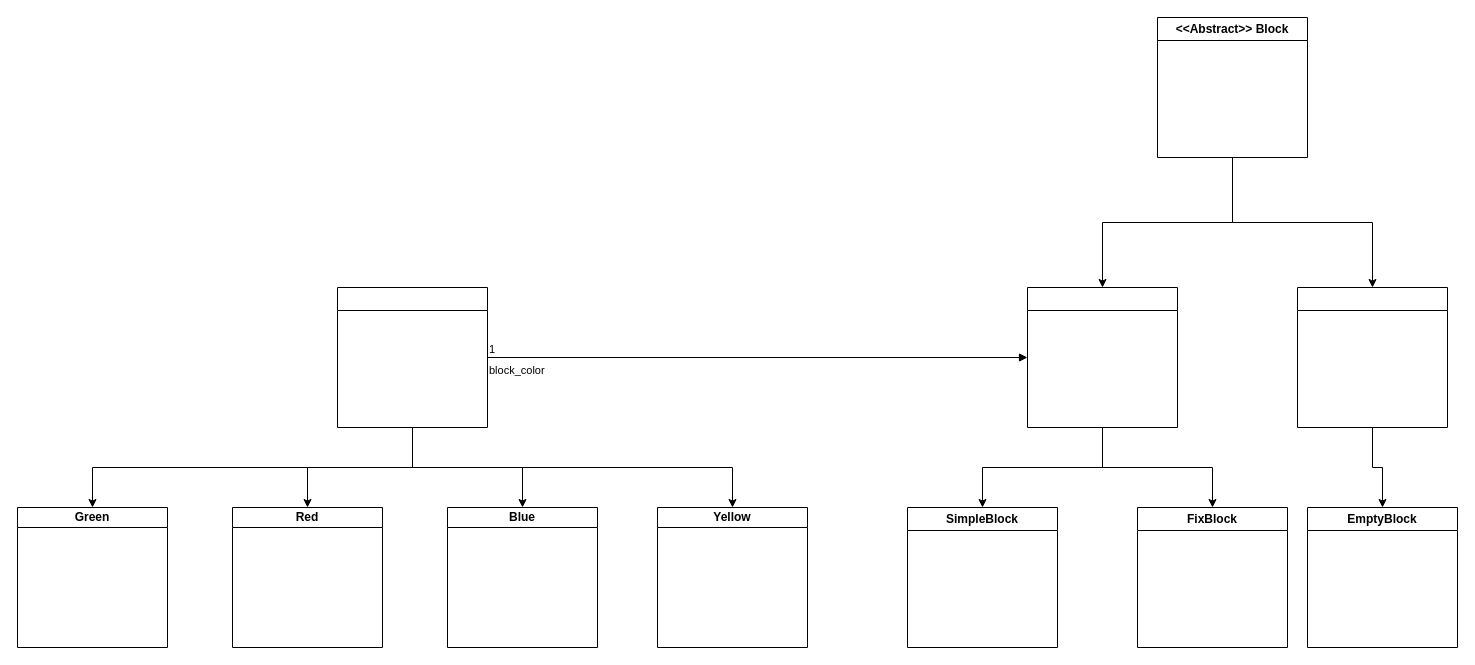
Image size: 1475x665. Some labels were removed from this diagram. Each missing label, with the centre of its shape:
"<<Abstract >> ColoredBlocks" goes at point 1102,357.
"<<Abstract>> Color" goes at point 412,357.
"<<Abstract>> UncoloredBlocks" goes at point 1372,357.
